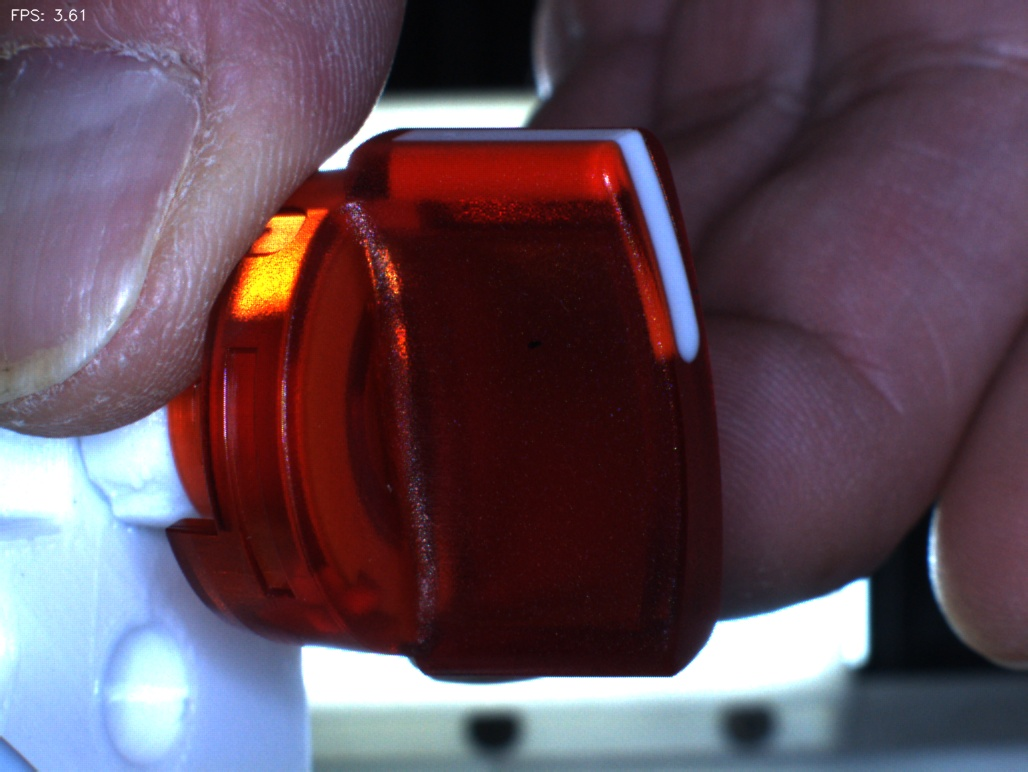PointNoir: (490, 298, 584, 389)
